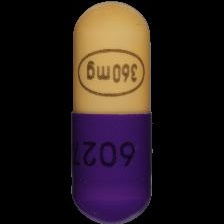54868-5984: (0, 0, 224, 224)
